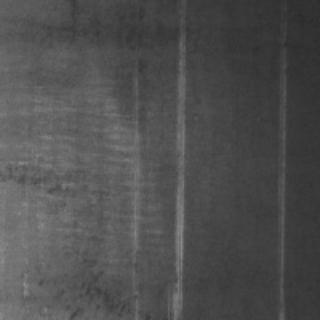scratches: (163, 22, 187, 314), (274, 51, 286, 315)
